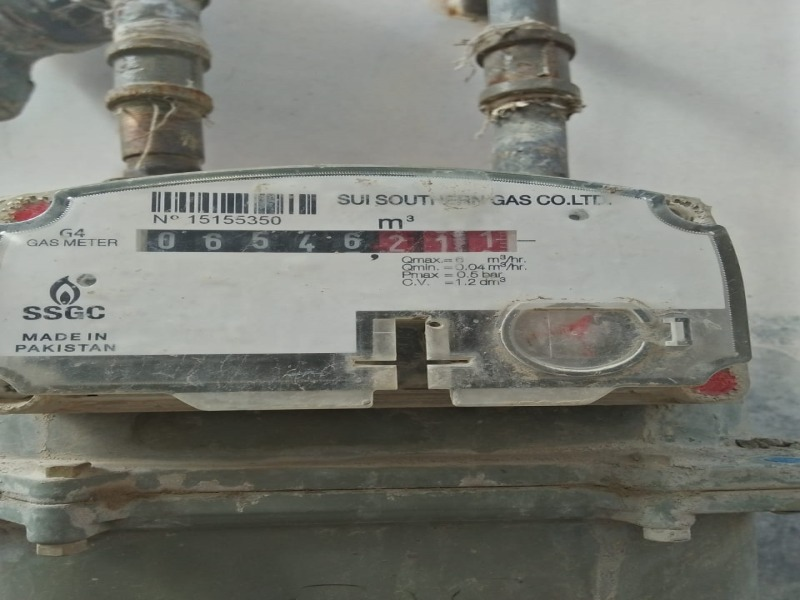ssgc: (131, 222, 519, 259)
